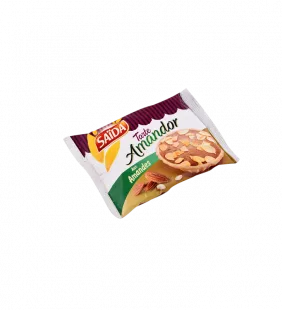SAIDA: (51, 75, 245, 229)
